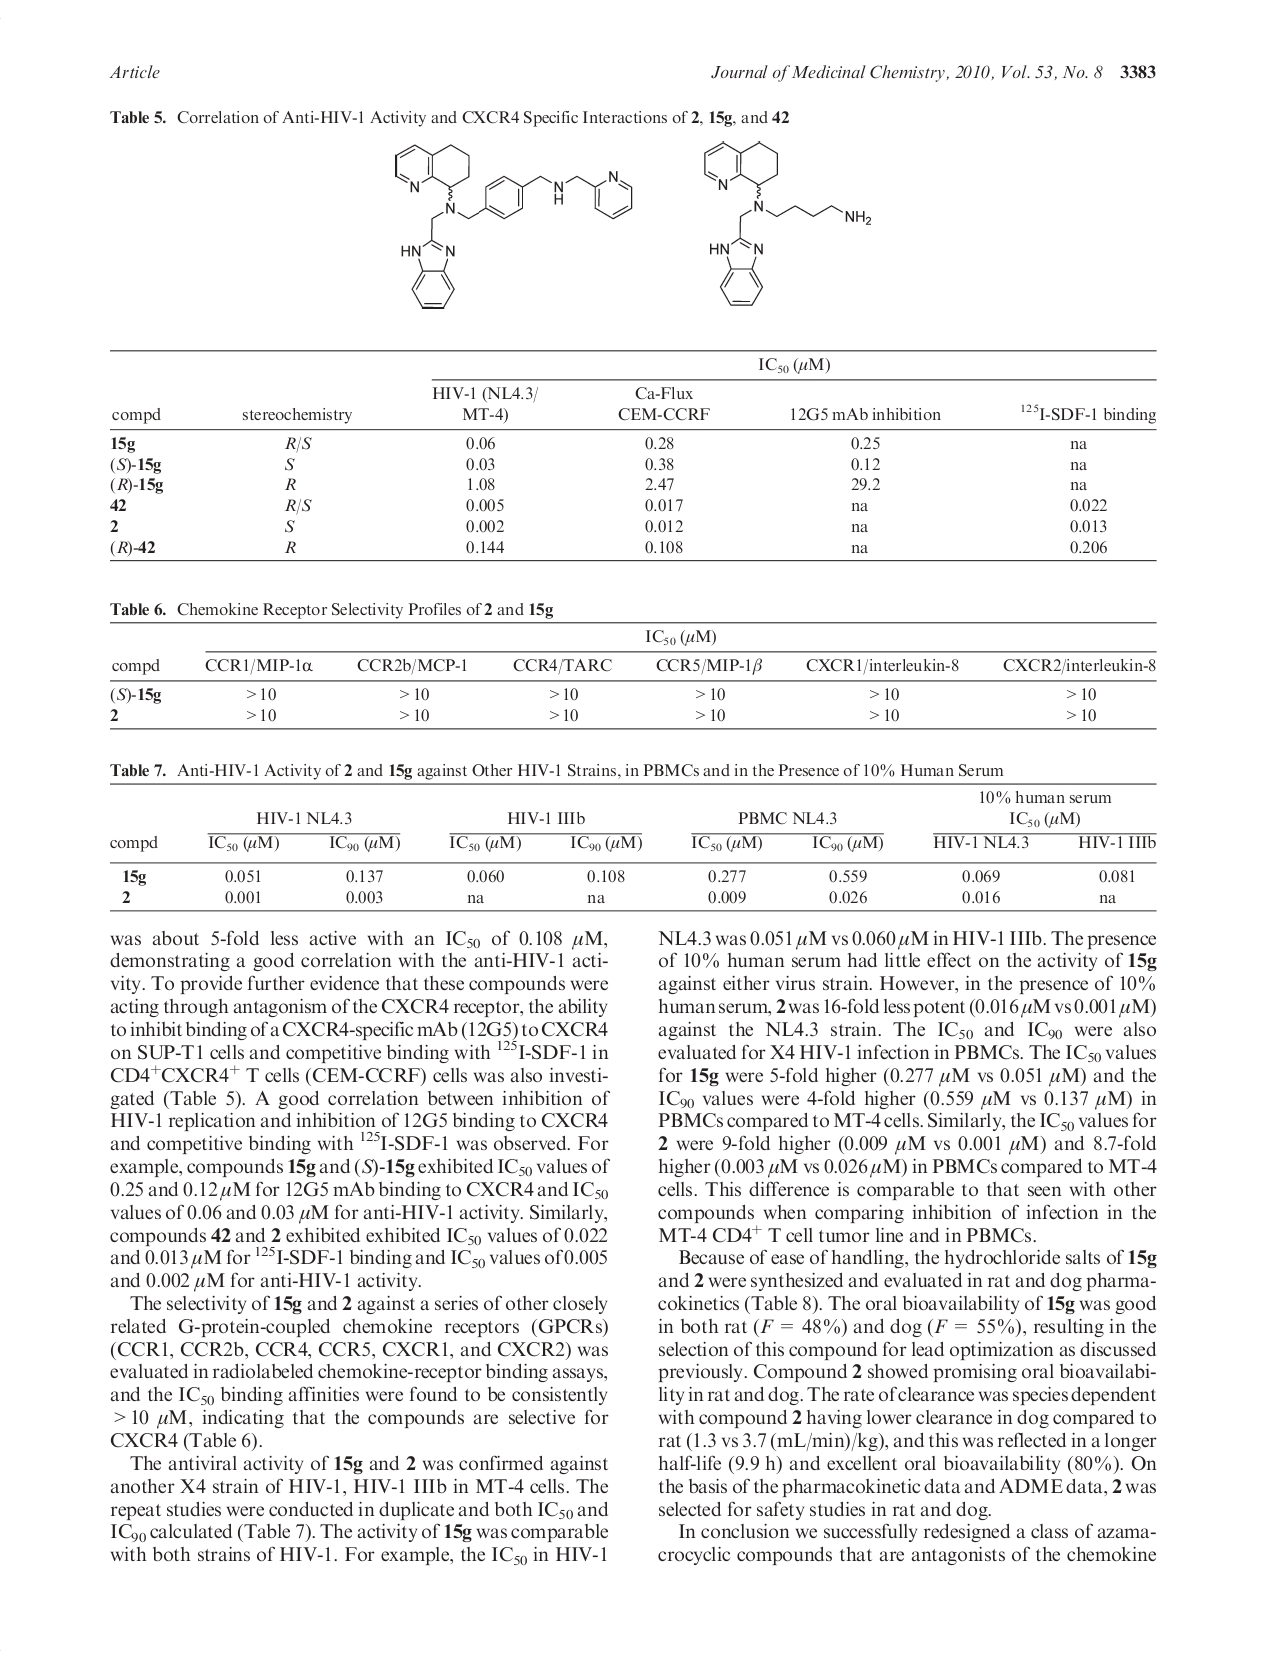exist_molecular: (370, 132, 638, 313), (696, 136, 878, 307)
